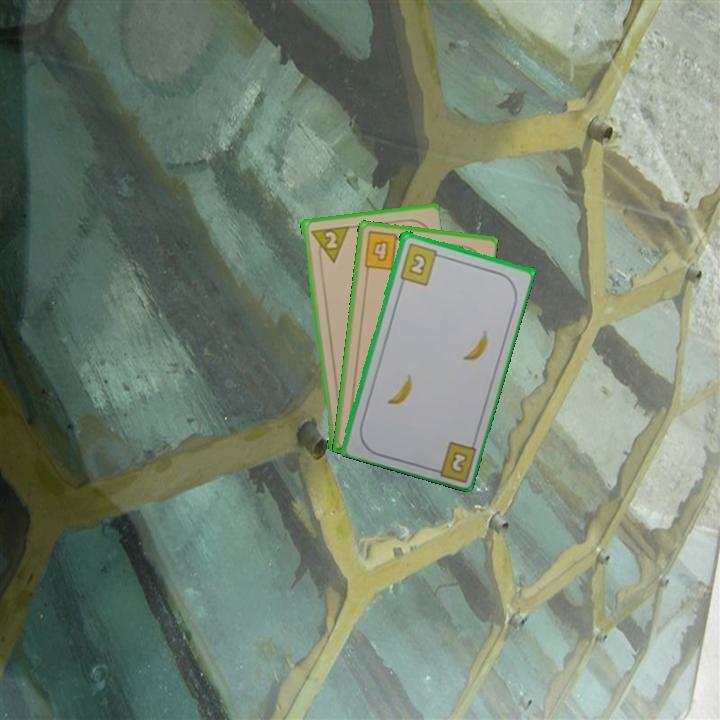2b: (396, 239, 445, 288), (448, 447, 470, 474)
2p: (307, 222, 350, 266)
4b: (360, 228, 406, 273)
